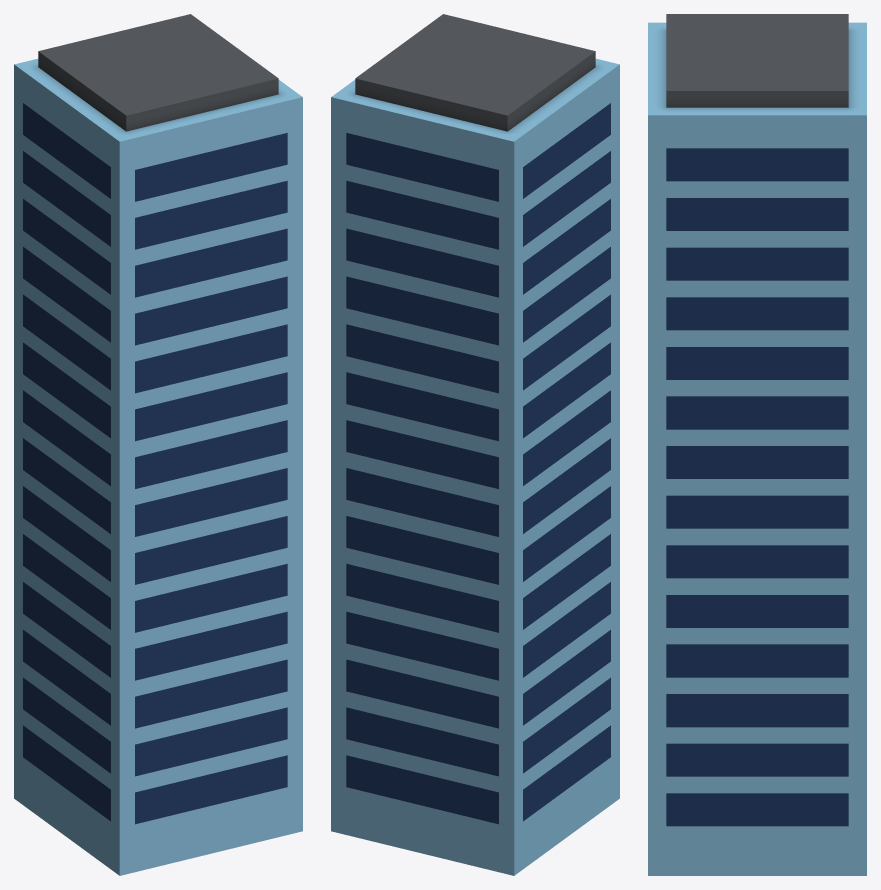
Rendered from c_tower.glb.
3 views of the same model, side by side, from view 1: azimuth 30°, elevation 25°; view 2: azimuth 150°, elevation 25°; view 3: azimuth 270°, elevation 25° (orthographic). The views are drawn at different scales.
Visible parts, largest first — view 1: c_tower_body; view 2: c_tower_body; view 3: c_tower_body.
Part boxes in pixels (bbox=[...]): c_tower_body: bbox=[14, 14, 302, 875]; c_tower_body: bbox=[331, 14, 619, 875]; c_tower_body: bbox=[648, 14, 866, 875].
Size of the model in its own units: 0.75 by 2.94 by 0.75.
Materials: 1 (1 with a texture image).
